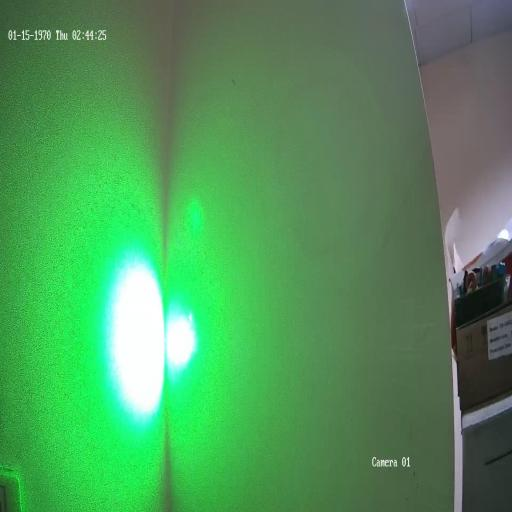laser: (160, 289, 202, 384)
